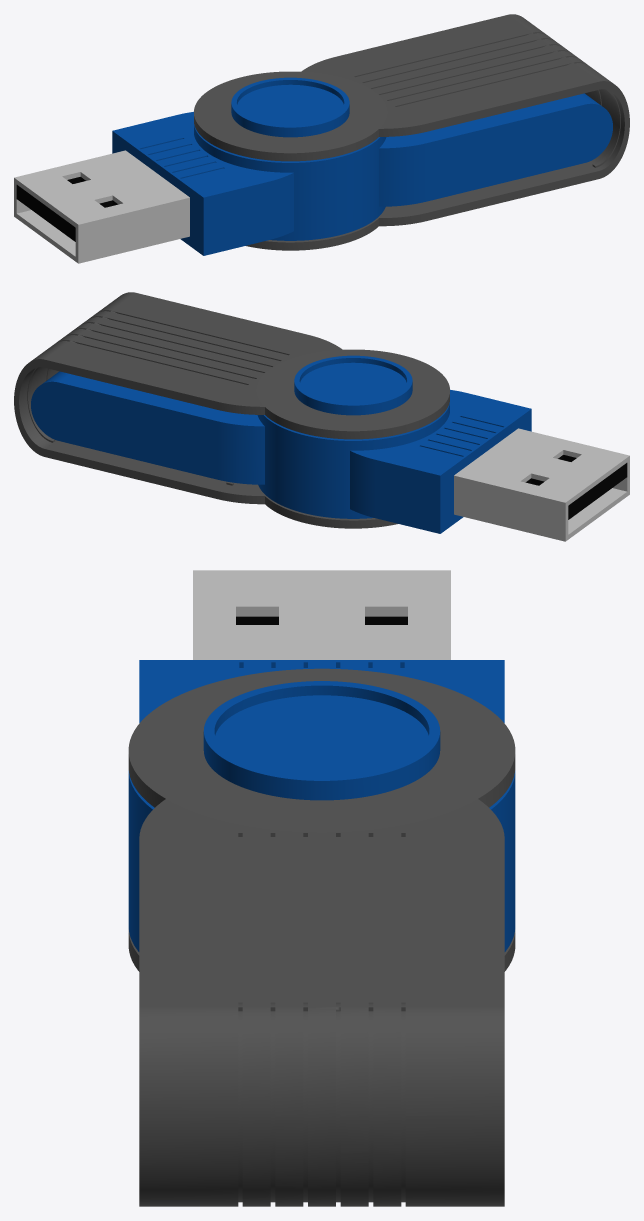
File: usb_memory.glb
The picture shows the model from 3 angles, top to bottom: view 1: azimuth 30°, elevation 25°; view 2: azimuth 150°, elevation 25°; view 3: azimuth 270°, elevation 25°; orthographic projection. The views are drawn at different scales.
Parts seen in each view (by area): view 1: Object_29, Object_31, Object_7, Object_25, Object_2, Object_6, Object_24, Object_23, Object_8, Object_28, Object_26, Object_30 (+4 smaller); view 2: Object_29, Object_31, Object_7, Object_25, Object_2, Object_6, Object_24, Object_23, Object_26, Object_28, Object_8, Object_30 (+4 smaller); view 3: Object_28, Object_29, Object_2, Object_23, Object_31, Object_24, Object_25, Object_6, Object_26.
Part boxes in pixels (x1,y1,x2,y2): Object_29: (338,15,599,131); Object_31: (14,150,189,263); Object_7: (415,96,585,201); Object_25: (112,115,268,255); Object_2: (194,71,387,161); Object_6: (194,124,386,240); Object_24: (301,51,472,136); Object_23: (231,77,349,137); Object_8: (379,122,467,206); Object_28: (508,14,629,178); Object_26: (132,111,293,240); Object_30: (425,166,599,221); Object_29: (45,293,309,409); Object_31: (454,428,629,541); Object_7: (58,374,228,479); Object_25: (375,393,531,533); Object_2: (256,349,449,439); Object_6: (257,402,449,518); Object_24: (171,329,342,414); Object_23: (294,355,412,415); Object_26: (350,389,511,517); Object_28: (14,292,135,457); Object_8: (189,404,264,484); Object_30: (47,444,218,499); Object_28: (139,1002,504,1206); Object_29: (139,837,504,1007); Object_2: (128,668,515,832); Object_23: (203,681,440,800); Object_31: (193,570,450,659); Object_24: (139,799,504,906); Object_25: (139,660,504,722); Object_6: (128,771,515,951); Object_26: (140,660,504,722).
Size of the model in its own units: 578 by 120 by 180.
